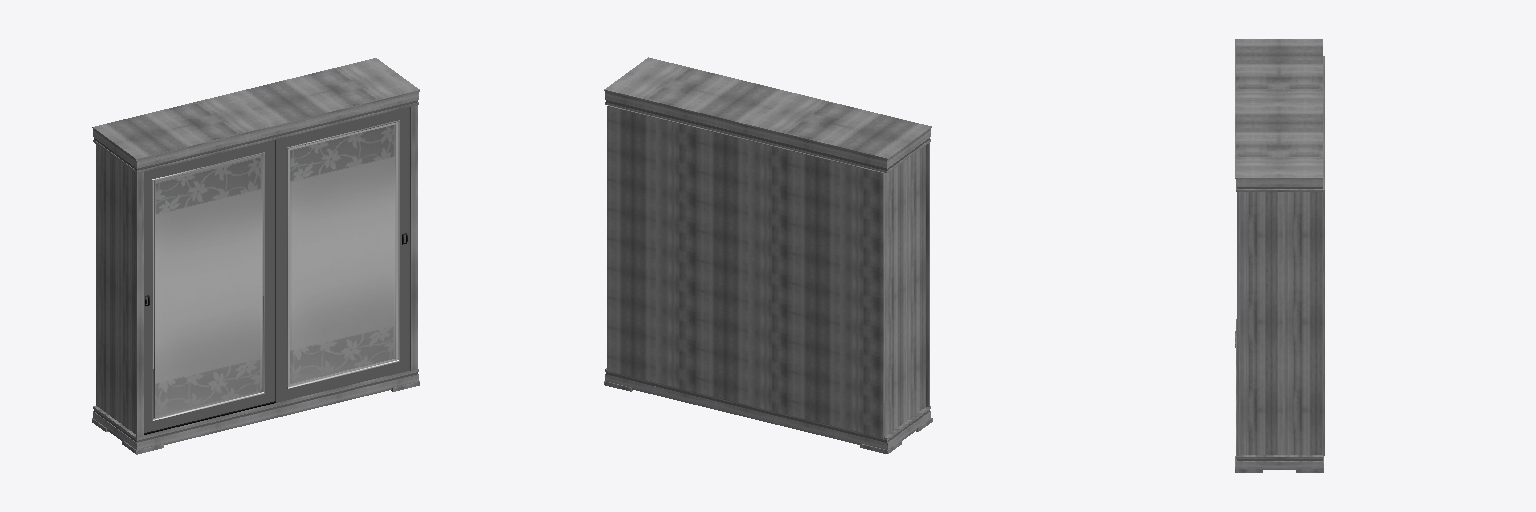
3 renders of one model, left to right at view 1: azimuth 30°, elevation 25°; view 2: azimuth 150°, elevation 25°; view 3: azimuth 270°, elevation 25°, orthographic.
Parts seen in each view (by area): view 1: solid_001, solid_002, solid_008, solid_007, solid_006, solid_003; view 2: solid_002, solid_003; view 3: solid_002.
Boxes of the visible parts, box(x1,y1,x2,y2) form: solid_001: box(154, 124, 395, 417); solid_002: box(92, 58, 419, 454); solid_008: box(144, 107, 409, 432); solid_007: box(152, 120, 399, 420); solid_006: box(153, 122, 397, 418); solid_003: box(94, 100, 417, 442); solid_002: box(604, 57, 932, 453); solid_003: box(606, 100, 929, 442); solid_002: box(1235, 39, 1324, 472).
Size of the model in its own units: 2.34 by 2.33 by 0.6427.
Materials: 1 (1 with a texture image).